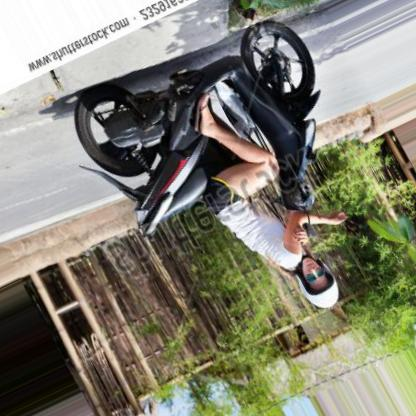with helmet: (291, 254, 344, 310)
